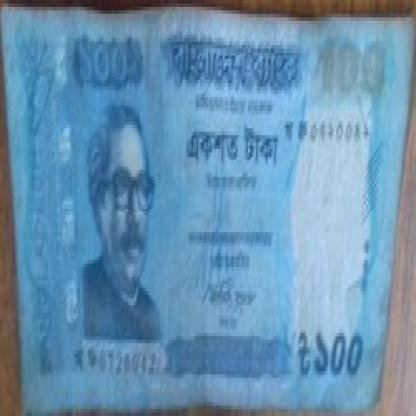one hundred taka: (314, 38, 390, 101), (313, 315, 366, 385), (75, 35, 130, 94)
